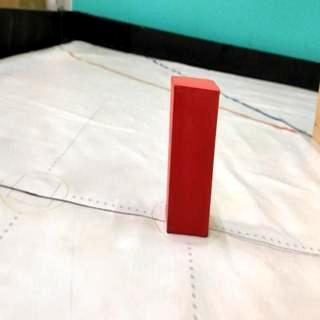redbox: (167, 74, 220, 240)
